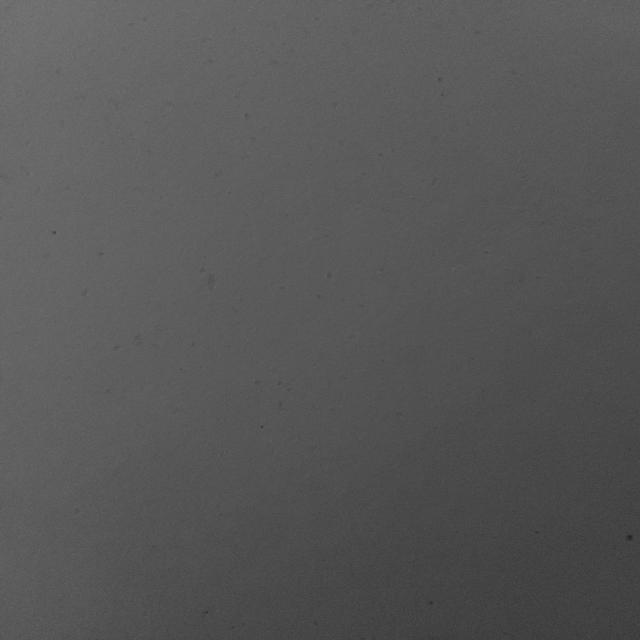rough and patchy surface: (6, 2, 626, 631)
